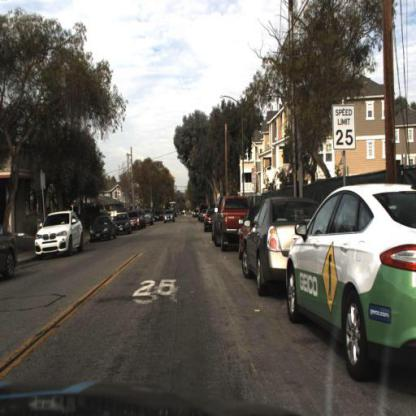car: (287, 182, 416, 387), (242, 194, 310, 296), (32, 208, 84, 259), (213, 194, 249, 251), (237, 205, 257, 265), (0, 218, 18, 284), (87, 214, 117, 244), (111, 210, 130, 233), (204, 202, 214, 235), (128, 209, 142, 230), (142, 207, 154, 225), (162, 208, 176, 223), (138, 209, 146, 228)
